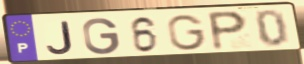0: (253, 8, 289, 49)
6: (129, 16, 160, 54)
G: (166, 14, 209, 52), (81, 17, 121, 56)
J: (45, 20, 76, 56)
P: (206, 10, 250, 52)
